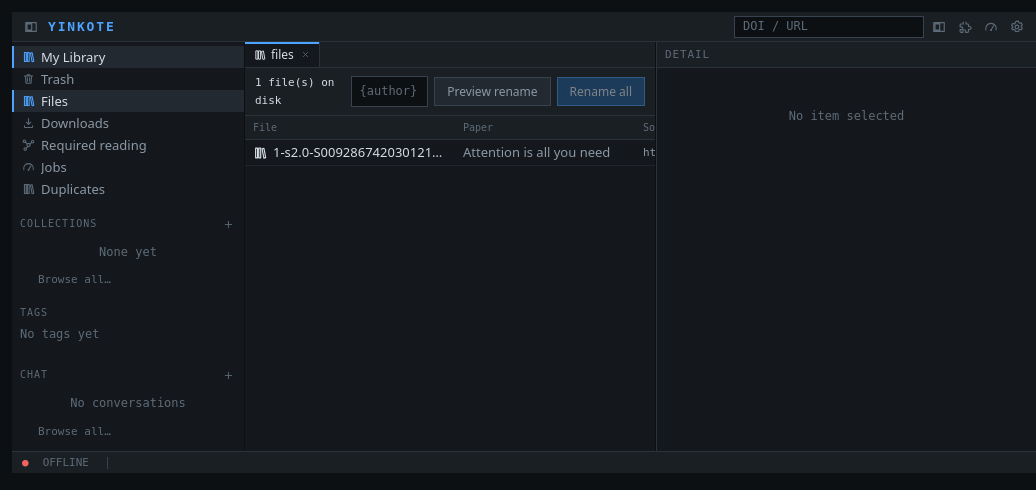
Test case: the file browser › previews a rename without renaming anything
The image size is (1036, 490).
Click the button "Preview rename" at (492, 92), box [434,77,551,106]
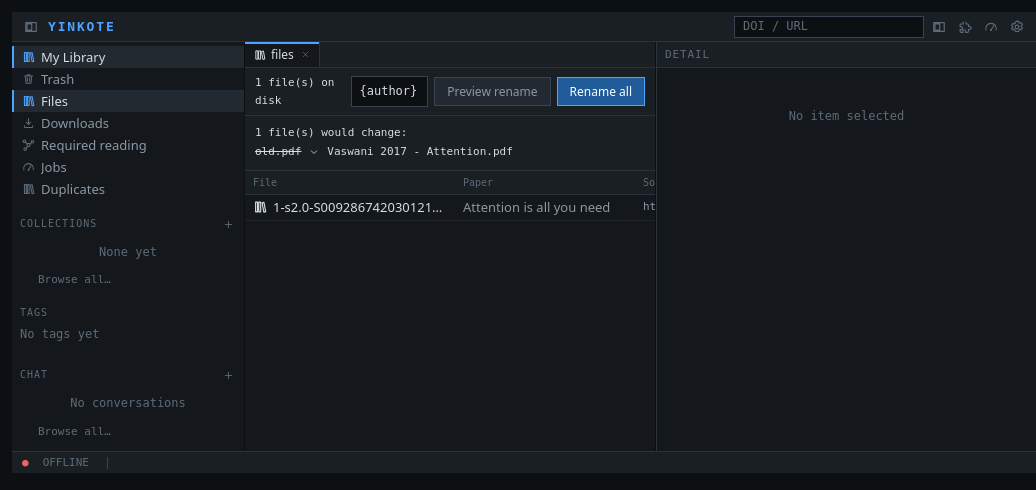
Now the text "Vaswani 2017 - Attention.pdf" is shown, box [327,143,513,162]
